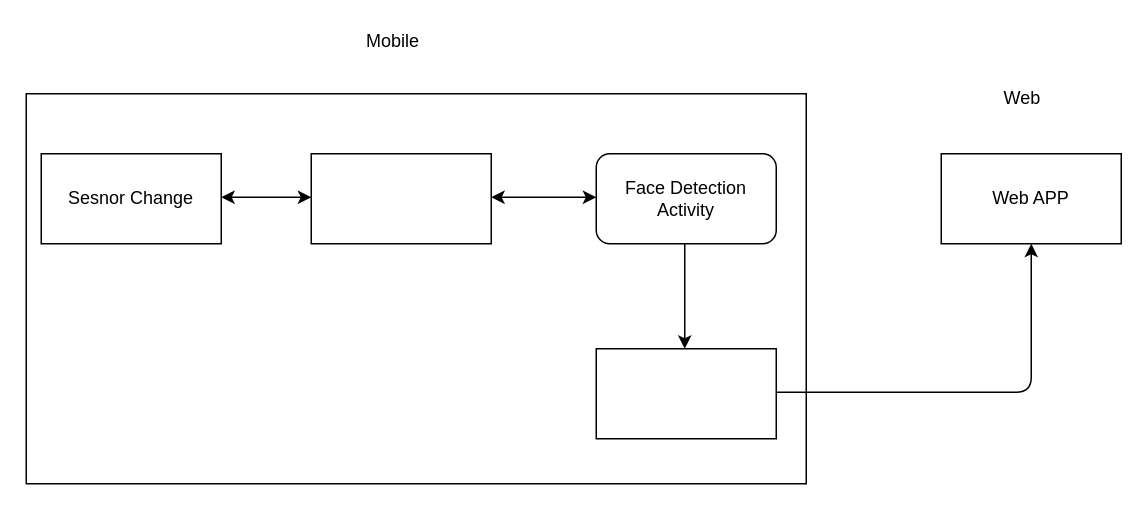
This 1148x510 diagram has some shape labels left out. The centre of each missing label's shape, as x and y in pixels:
"Image Capture and Upload" goes at point (685, 393).
"StateManger" goes at point (400, 198).
